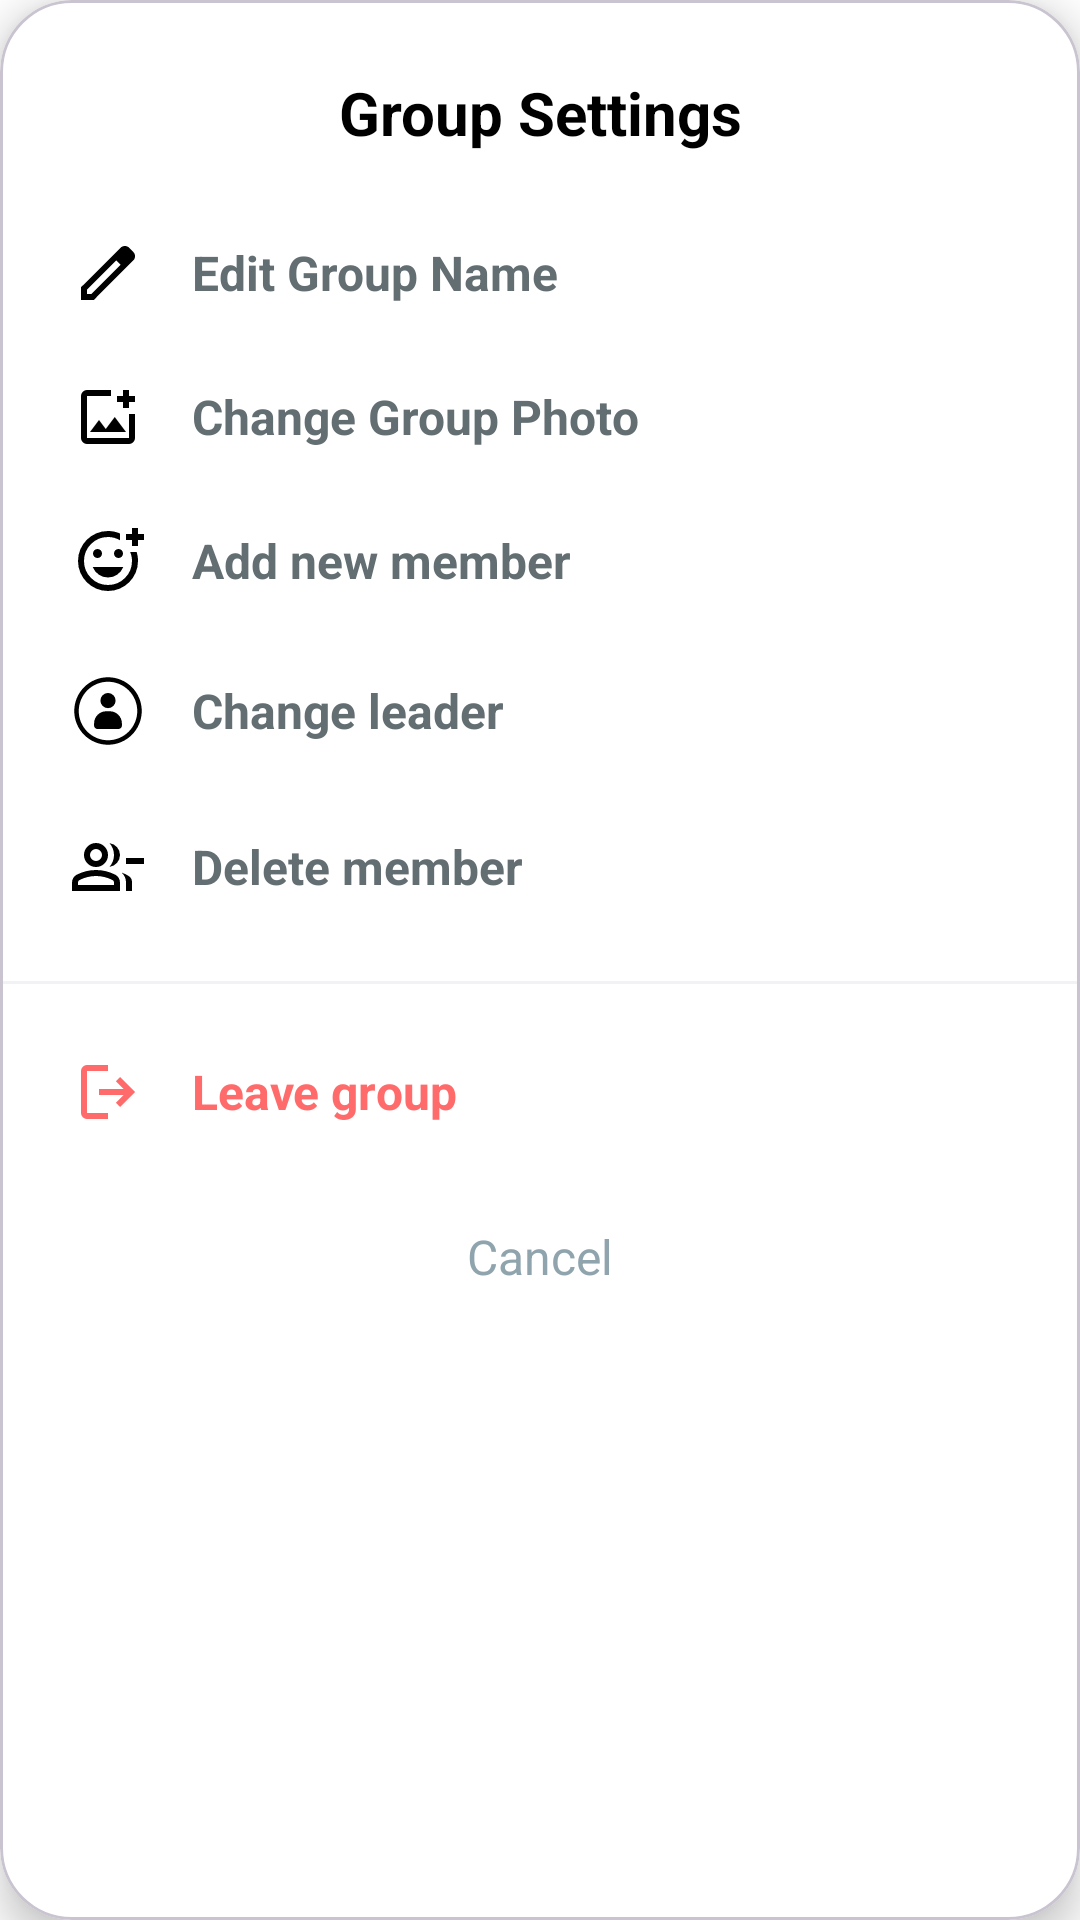

Named icons in this screenshot (1080×1920) and their centers, (x,y):
add photo from gallery: (108,417)
remove person: (108,867)
